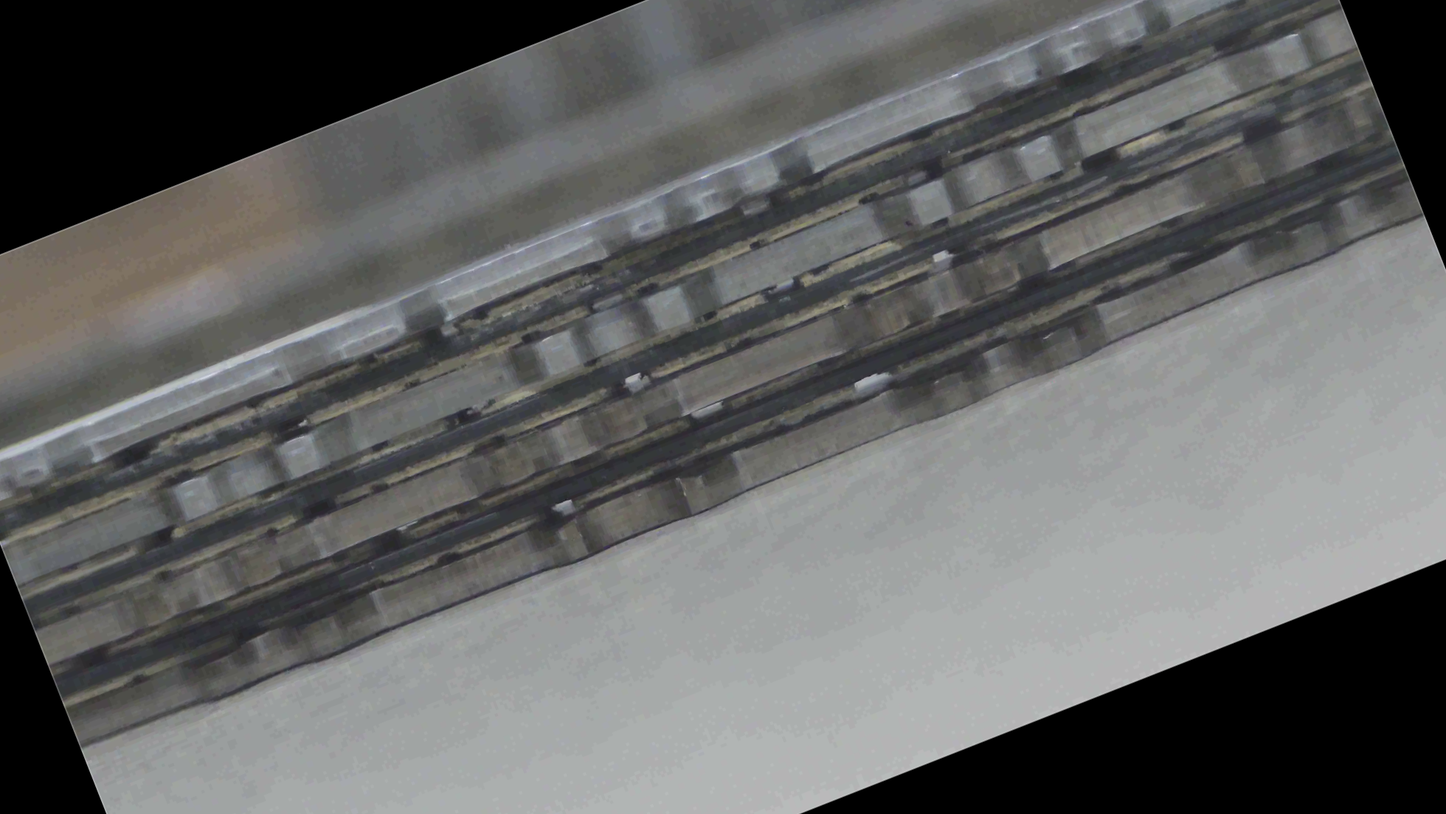Black metal plate: (66, 177, 1419, 747)
shiney metal plate: (98, 12, 1359, 740), (0, 83, 1414, 326), (0, 264, 1441, 318)
spacer: (14, 272, 1437, 567), (3, 213, 1445, 271), (0, 319, 1445, 350)
